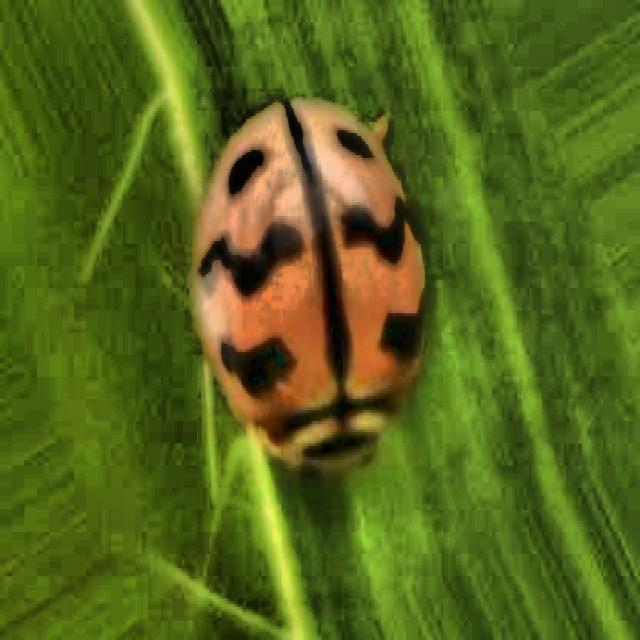Asian-Lady-beetle: (158, 52, 522, 589)
